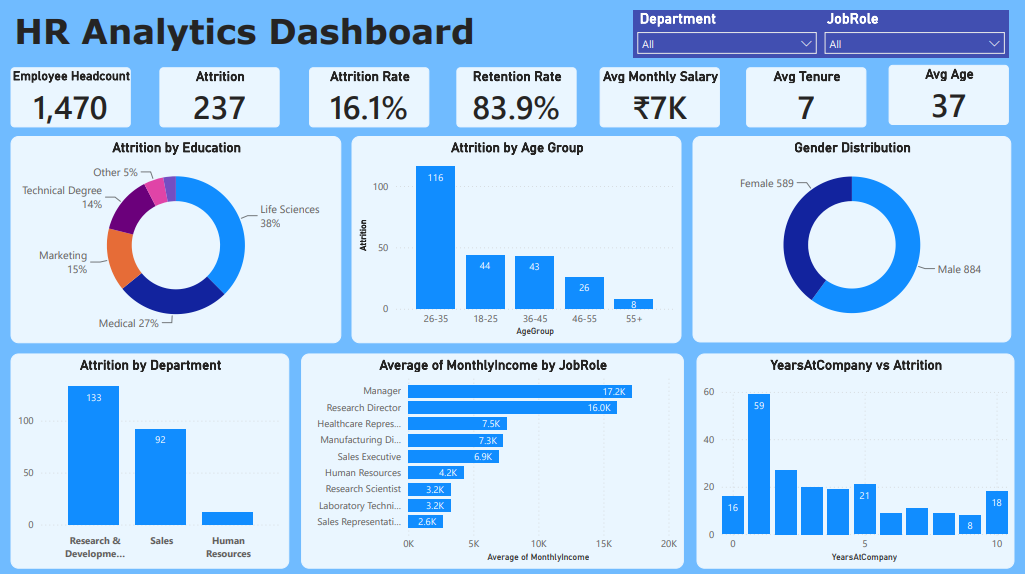

The page's visual inventory and layout, read from the dashboard file:
{"tool":"powerbi","page":{"name":"Page 1","canvas":[1280,720],"ordinal":0},"visuals":[{"type":"cardVisual","title":"Employee Headcount","fields":{"Data":["Count(HR_Analytics.EmpID)"]},"box":[13,83.5,150,75],"z":0},{"type":"cardVisual","title":"Attrition","fields":{"Data":["Sum(HR_Analytics.AttritionCount)"]},"box":[198.7,83.5,150,75],"z":1000},{"type":"cardVisual","title":"Attrition Rate","fields":{"Data":["HR_Analytics.AttritionRate"]},"box":[385.9,83.5,150,75],"z":2000},{"type":"cardVisual","title":"Avg Monthly Salary","fields":{"Data":["Avg(HR_Analytics.MonthlyIncome)"]},"box":[748.8,83.5,150,75],"z":3000},{"type":"cardVisual","title":"Avg Tenure","fields":{"Data":["Avg(HR_Analytics.YearsAtCompany)"]},"box":[931.7,83.5,150,75],"z":4000},{"type":"cardVisual","title":"Avg Age","fields":{"Data":["Avg(HR_Analytics.Age)"]},"box":[1110.2,80.6,150,75],"z":5000},{"type":"donutChart","title":"Attrition by Education","fields":{"Category":["HR_Analytics.EducationField"],"Y":["Sum(HR_Analytics.AttritionCount)"]},"box":[13,169.9,413.3,259.2],"z":6000},{"type":"columnChart","title":"Attrition by Age Group","fields":{"Category":["HR_Analytics.AgeGroup"],"Y":["Sum(HR_Analytics.AttritionCount)"]},"box":[439.2,169.9,411.8,259.2],"z":7000},{"type":"clusteredColumnChart","title":"Attrition by Department","fields":{"Category":["HR_Analytics.Department"],"Y":["Sum(HR_Analytics.AttritionCount)"]},"box":[13,442.1,348.5,269.3],"z":8000},{"type":"donutChart","title":"Gender Distribution","fields":{"Category":["HR_Analytics.Gender"],"Y":["CountNonNull(HR_Analytics.EmployeeCount)"]},"box":[865.4,169.9,397.4,257.8],"z":9000},{"type":"barChart","fields":{"Category":["HR_Analytics.JobRole"],"Y":["Avg(HR_Analytics.MonthlyIncome)"]},"box":[375.8,442.1,478.1,269.3],"z":10000},{"type":"clusteredColumnChart","title":"YearsAtCompany vs Attrition","fields":{"Category":["HR_Analytics.YearsAtCompany"],"Y":["Sum(HR_Analytics.AttritionCount)"]},"box":[869.8,442.1,397.4,269.3],"z":11000},{"type":"textbox","title":"HR Analytics Dashboard","box":[13,11.5,601.9,64.8],"z":12000},{"type":"slicer","fields":{"Values":["HR_Analytics.Department"]},"box":[790.6,11.5,234.7,60.5],"z":13000},{"type":"slicer","fields":{"Values":["HR_Analytics.JobRole"]},"box":[1025.3,11.5,234.7,60.5],"z":13001},{"type":"cardVisual","title":"Retention Rate","fields":{"Data":["HR_Analytics.RetentionRate"]},"box":[570.2,83.5,150,75],"z":13002}]}

Visuals, with their boxes in screenshot pixels (x1, y1, x2, y2), scaled from the page's 1280x720 canvas onto the 1025x574 screenshot:
"Employee Headcount" cardVisual: {"left": 10, "top": 67, "right": 131, "bottom": 126}
"Attrition" cardVisual: {"left": 159, "top": 67, "right": 279, "bottom": 126}
"Attrition Rate" cardVisual: {"left": 309, "top": 67, "right": 429, "bottom": 126}
"Avg Monthly Salary" cardVisual: {"left": 600, "top": 67, "right": 720, "bottom": 126}
"Avg Tenure" cardVisual: {"left": 746, "top": 67, "right": 866, "bottom": 126}
"Avg Age" cardVisual: {"left": 889, "top": 64, "right": 1009, "bottom": 124}
"Attrition by Education" donutChart: {"left": 10, "top": 135, "right": 341, "bottom": 342}
"Attrition by Age Group" columnChart: {"left": 352, "top": 135, "right": 681, "bottom": 342}
"Attrition by Department" clusteredColumnChart: {"left": 10, "top": 352, "right": 289, "bottom": 567}
"Gender Distribution" donutChart: {"left": 693, "top": 135, "right": 1011, "bottom": 341}
barChart - HR_Analytics.JobRole x Avg(HR_Analytics.MonthlyIncome): {"left": 301, "top": 352, "right": 684, "bottom": 567}
"YearsAtCompany vs Attrition" clusteredColumnChart: {"left": 697, "top": 352, "right": 1015, "bottom": 567}
"HR Analytics Dashboard" textbox: {"left": 10, "top": 9, "right": 492, "bottom": 61}
slicer - HR_Analytics.Department: {"left": 633, "top": 9, "right": 821, "bottom": 57}
slicer - HR_Analytics.JobRole: {"left": 821, "top": 9, "right": 1009, "bottom": 57}
"Retention Rate" cardVisual: {"left": 457, "top": 67, "right": 577, "bottom": 126}
